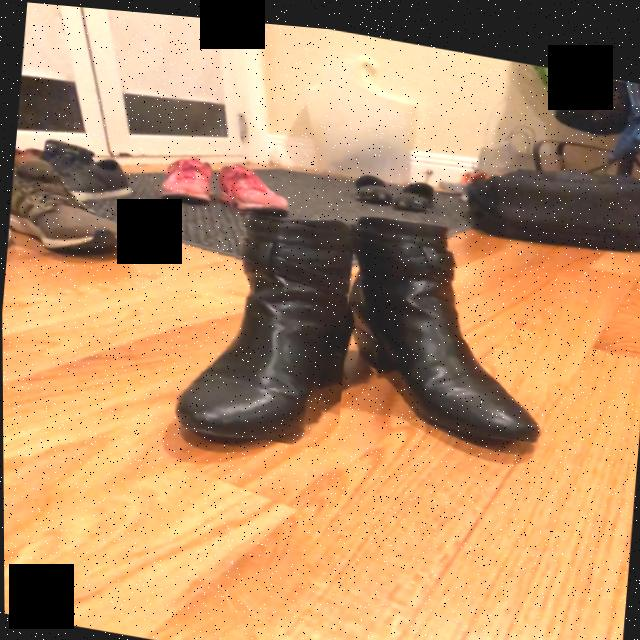shoe: (163, 208, 351, 433), (359, 224, 542, 431)
